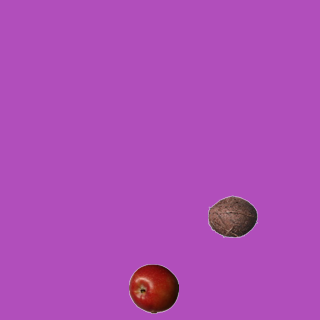Apple Braeburn: (128, 263, 178, 313)
Cocos: (207, 191, 257, 241)
